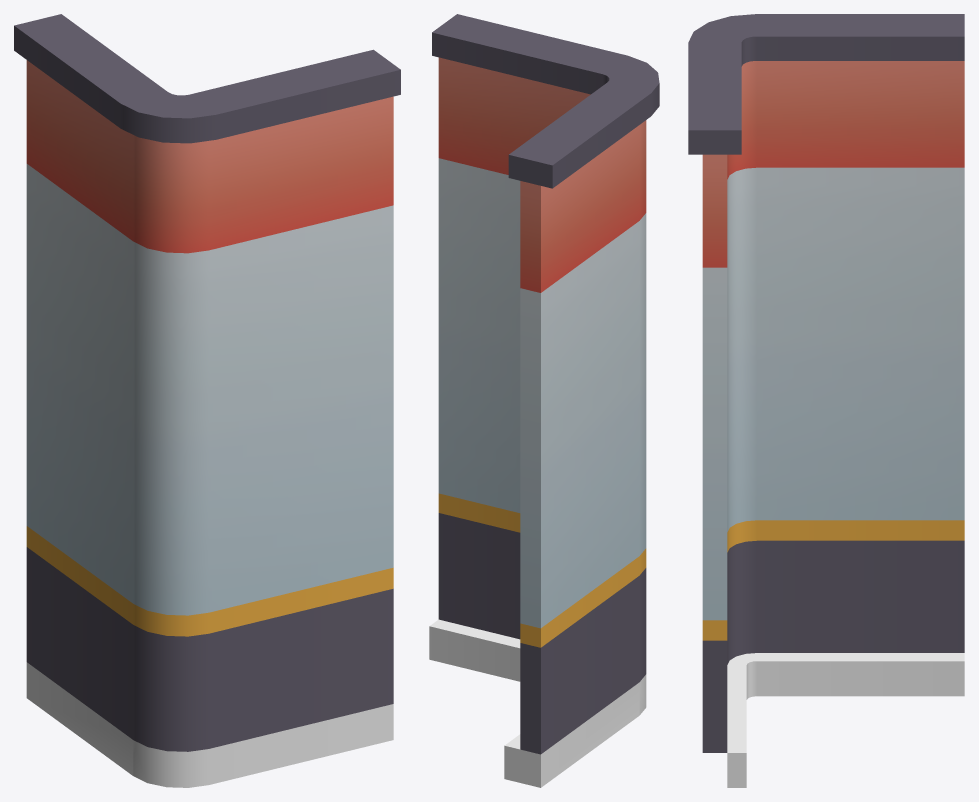
File: 3Wall_Corner.fbx
3 renders of one model, left to right at view 1: azimuth 30°, elevation 25°; view 2: azimuth 150°, elevation 25°; view 3: azimuth 270°, elevation 25°, orthographic. The views are drawn at different scales.
Parts seen in each view (by area): view 1: 3Wall_Corner; view 2: 3Wall_Corner; view 3: 3Wall_Corner.
Boxes of the visible parts, x1,y1,x2,y2 form: 3Wall_Corner: (14, 14, 400, 787); 3Wall_Corner: (429, 14, 659, 787); 3Wall_Corner: (688, 14, 964, 787).
Bounding box in the file's own units: 133 × 350 × 133.
